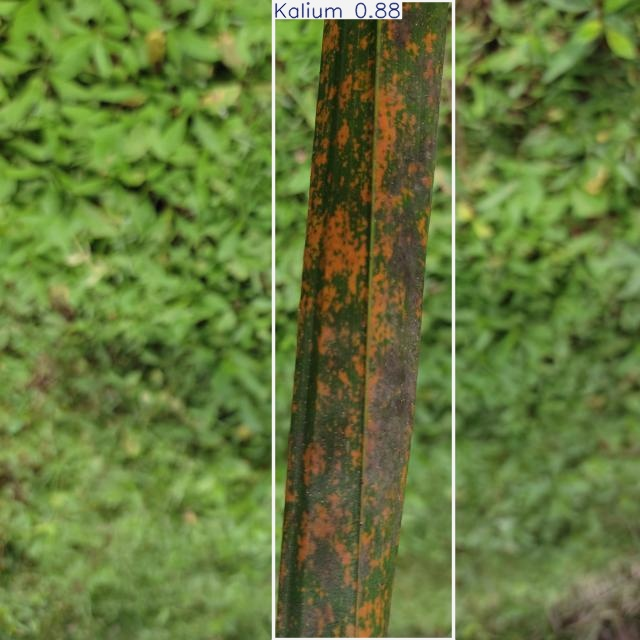Kalium: (274, 0, 453, 640)
